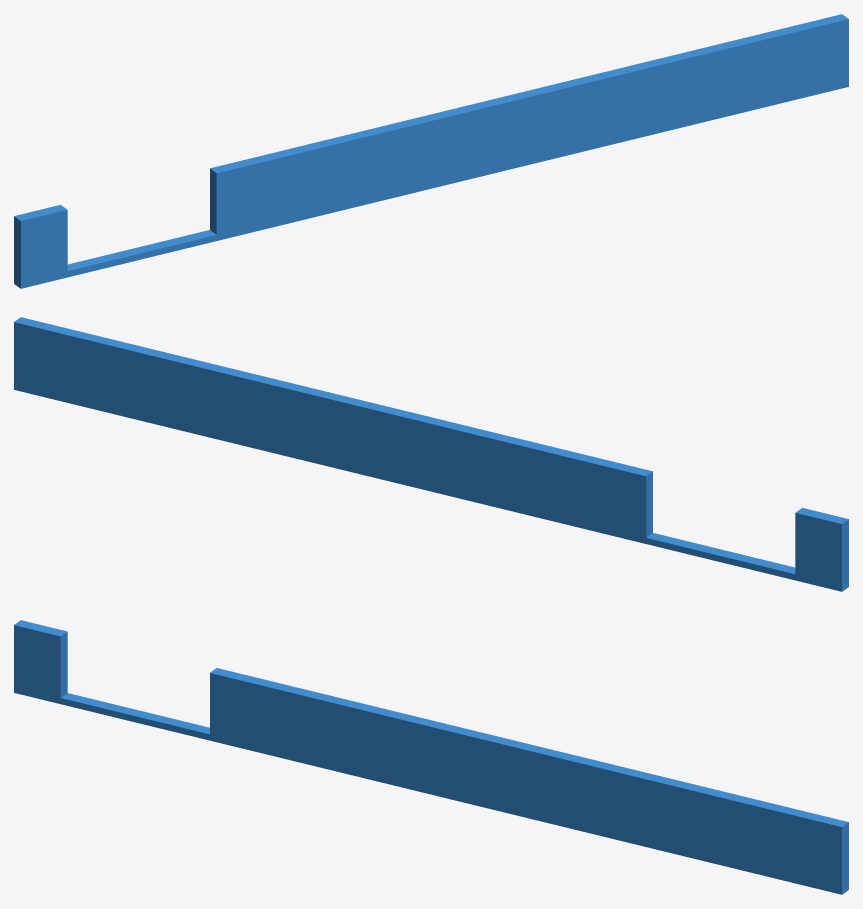
The model's file is short_wall_2_asset.dae.
The picture shows the model from 3 angles, top to bottom: view 1: azimuth 30°, elevation 25°; view 2: azimuth 150°, elevation 25°; view 3: azimuth 330°, elevation 25°; orthographic projection.
Parts seen in each view (by area): view 1: Cube.006; view 2: Cube.006; view 3: Cube.006.
Boxes of the visible parts, x1,y1,x2,y2 form: Cube.006: (14,14,848,288); Cube.006: (14,317,848,591); Cube.006: (14,620,848,894).
Size of the model in its own units: 5.12 by 0.0734 by 0.4001.
